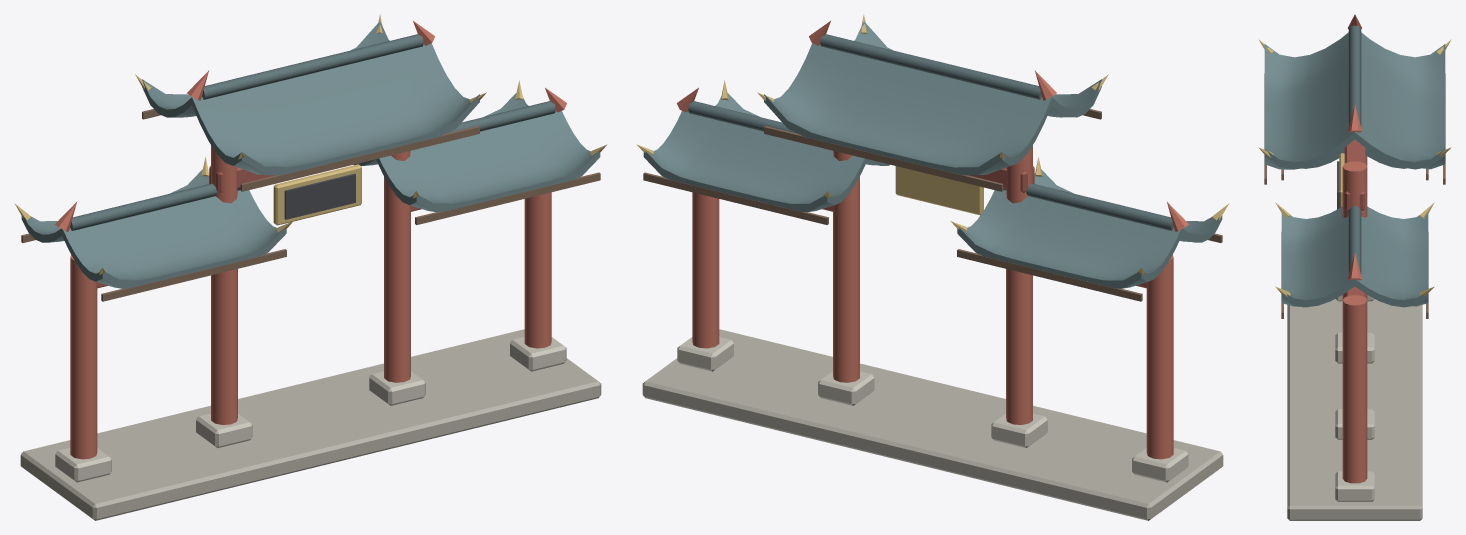
The model's file is gate_tam_quan.glb.
3 renders of one model, left to right at view 1: azimuth 30°, elevation 25°; view 2: azimuth 150°, elevation 25°; view 3: azimuth 270°, elevation 25°, orthographic. The views are drawn at different scales.
Visible parts, largest first — view 1: TamQuan; view 2: TamQuan; view 3: TamQuan.
Boxes of the visible parts, bbox=[...] form: TamQuan: bbox=[14, 14, 606, 520]; TamQuan: bbox=[637, 14, 1229, 520]; TamQuan: bbox=[1258, 14, 1451, 520].
Size of what is drawn, in the model's own units: 9.4 by 6.85 by 3.42.
